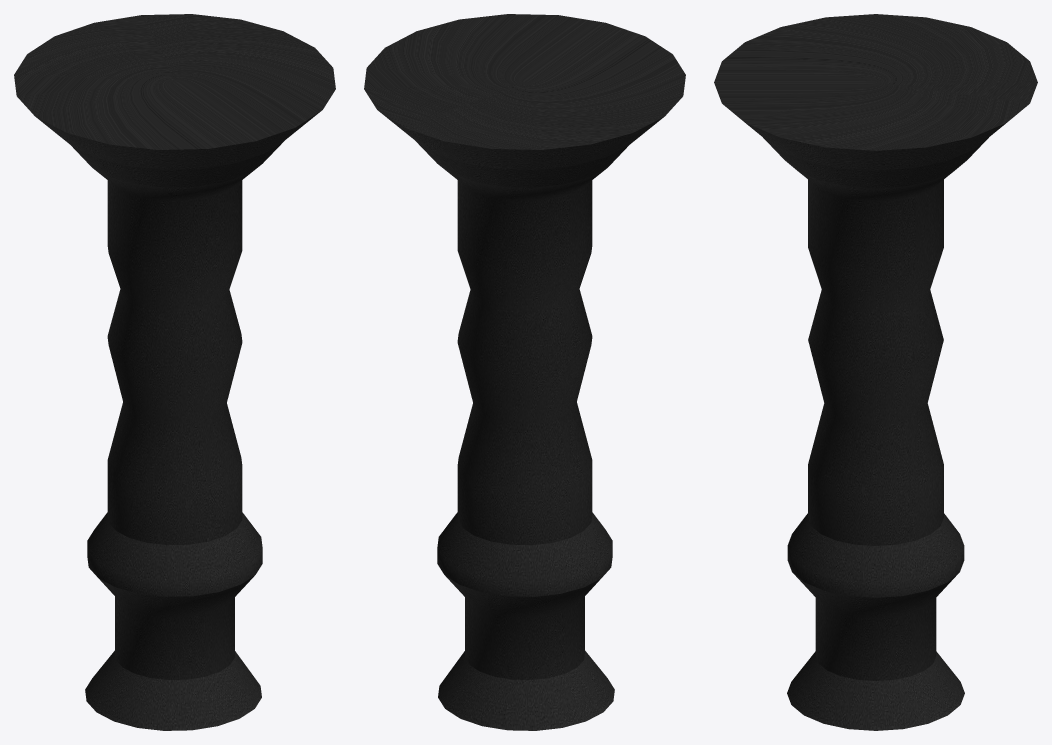
Rendered from Candle_Holder_1.fbx.
3 views of the same model, side by side, from view 1: azimuth 30°, elevation 25°; view 2: azimuth 150°, elevation 25°; view 3: azimuth 270°, elevation 25° (orthographic).
Visible parts, largest first — view 1: polySurface20; view 2: polySurface20; view 3: polySurface20.
Part boxes in pixels (x1,y1,x2,y2): polySurface20: (14,14,335,730); polySurface20: (364,14,685,730); polySurface20: (714,14,1037,730).
Bounding box in the file's own units: 2.07 × 4.31 × 2.07.
